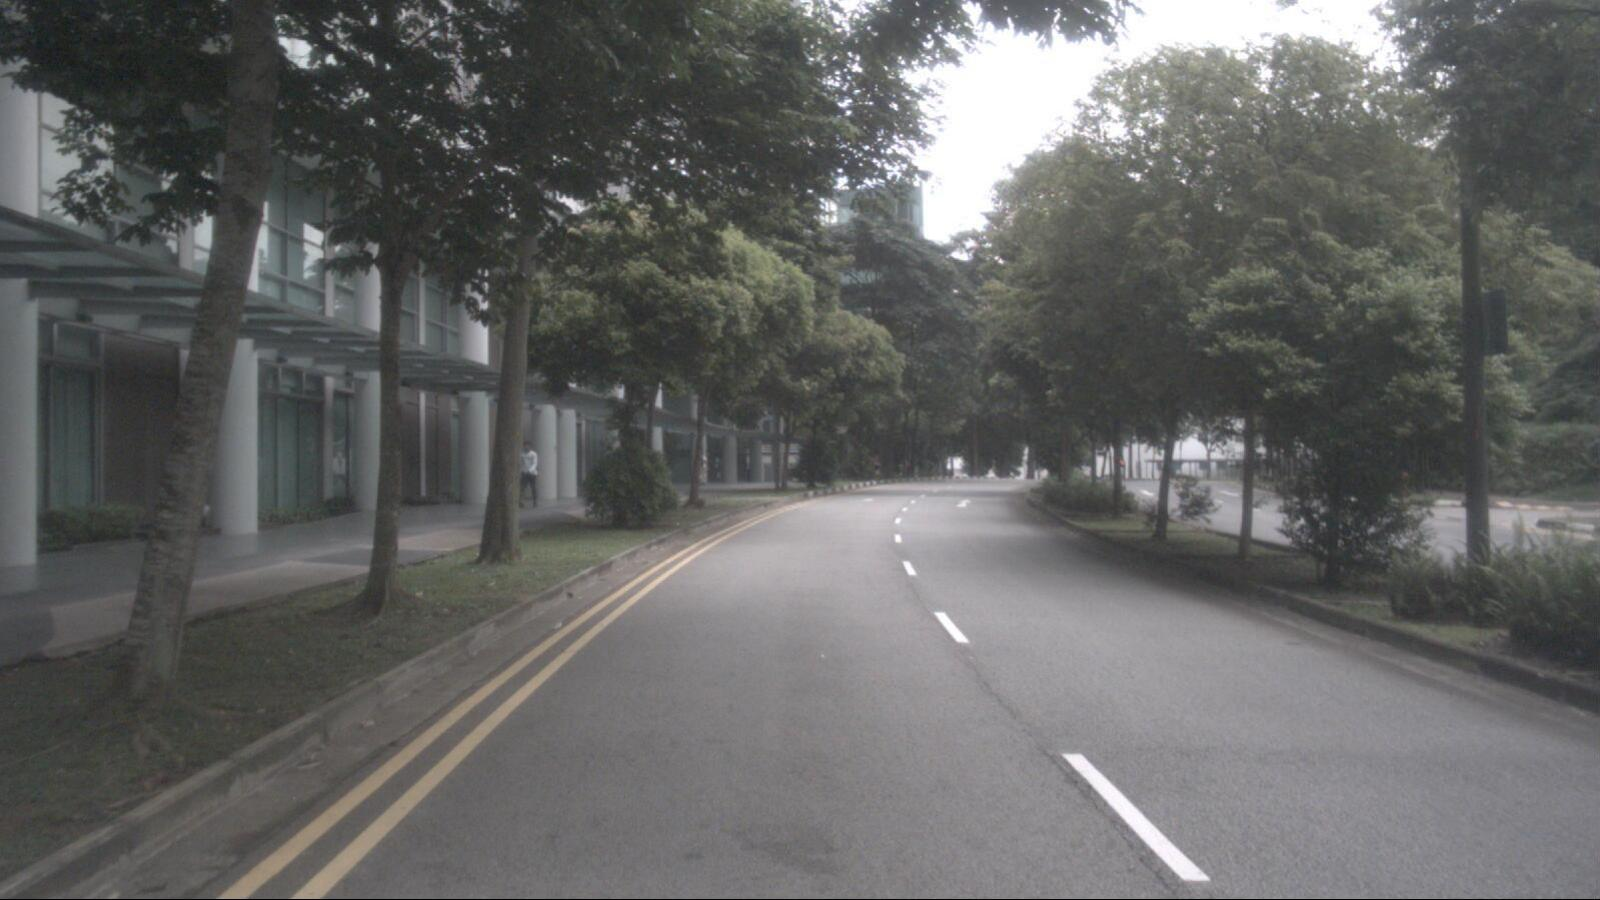human.pedestrian.adult-pedestrian.moving: (514, 441, 538, 508)
